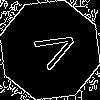V: (25, 25, 81, 76)
